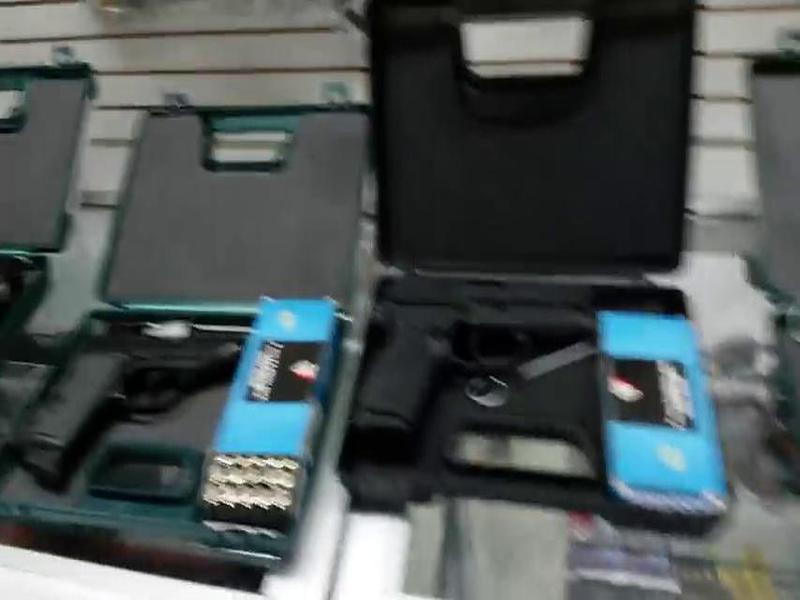Pistola: (355, 259, 605, 474), (13, 312, 259, 491)
